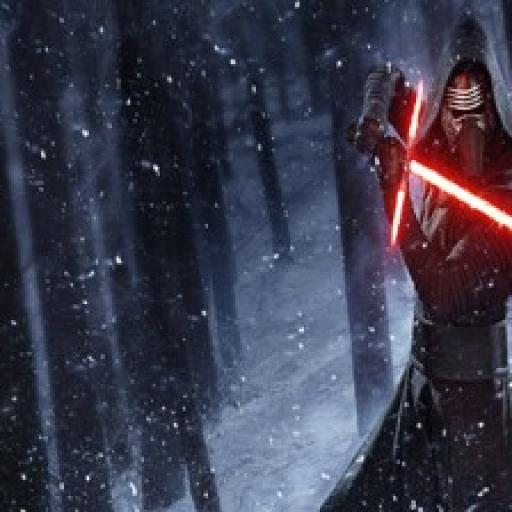human: (358, 17, 512, 512)
sith saber: (336, 77, 512, 252)
